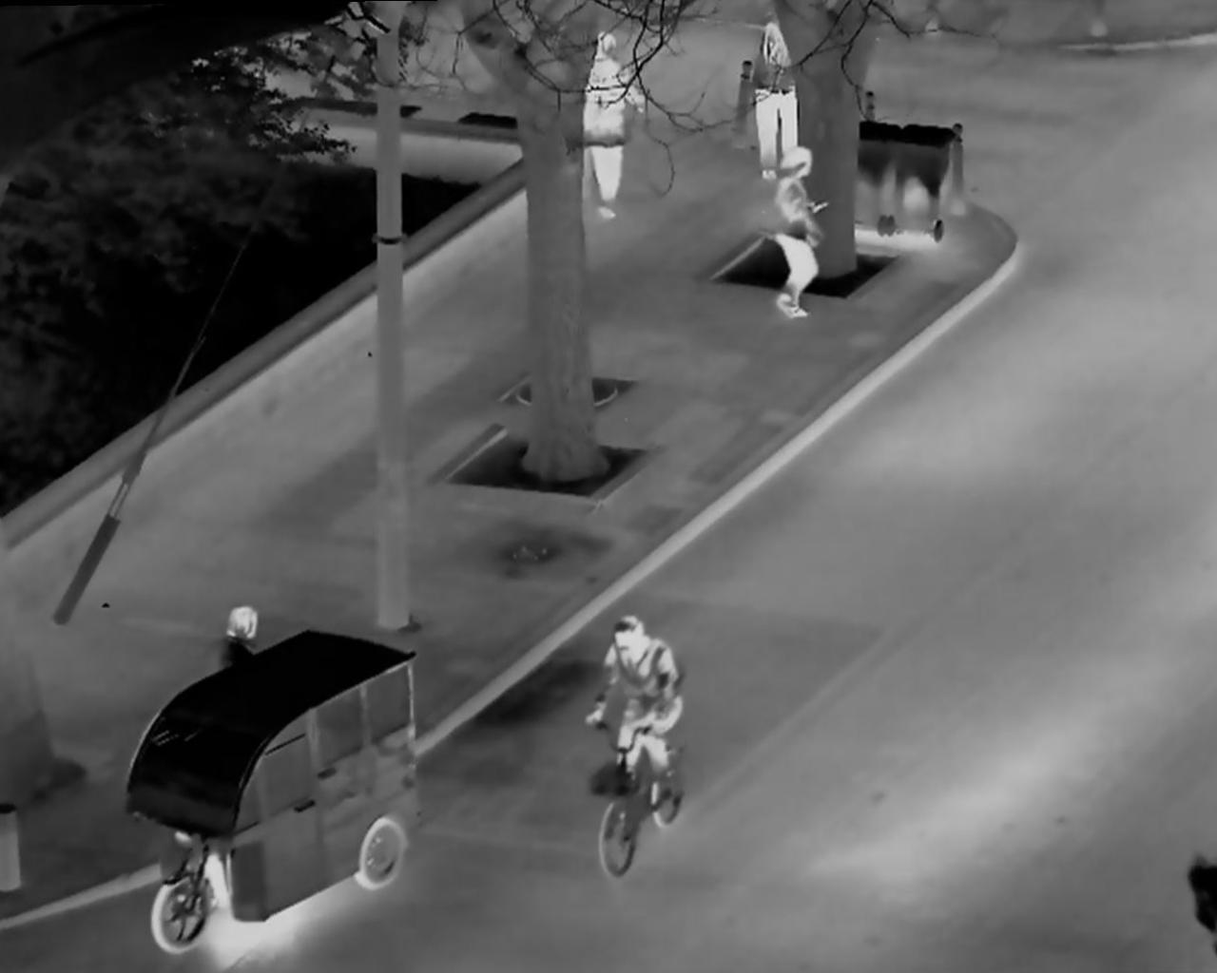person: (577, 601, 703, 883), (565, 23, 651, 241), (763, 144, 837, 321), (751, 15, 811, 182), (209, 597, 272, 675)
